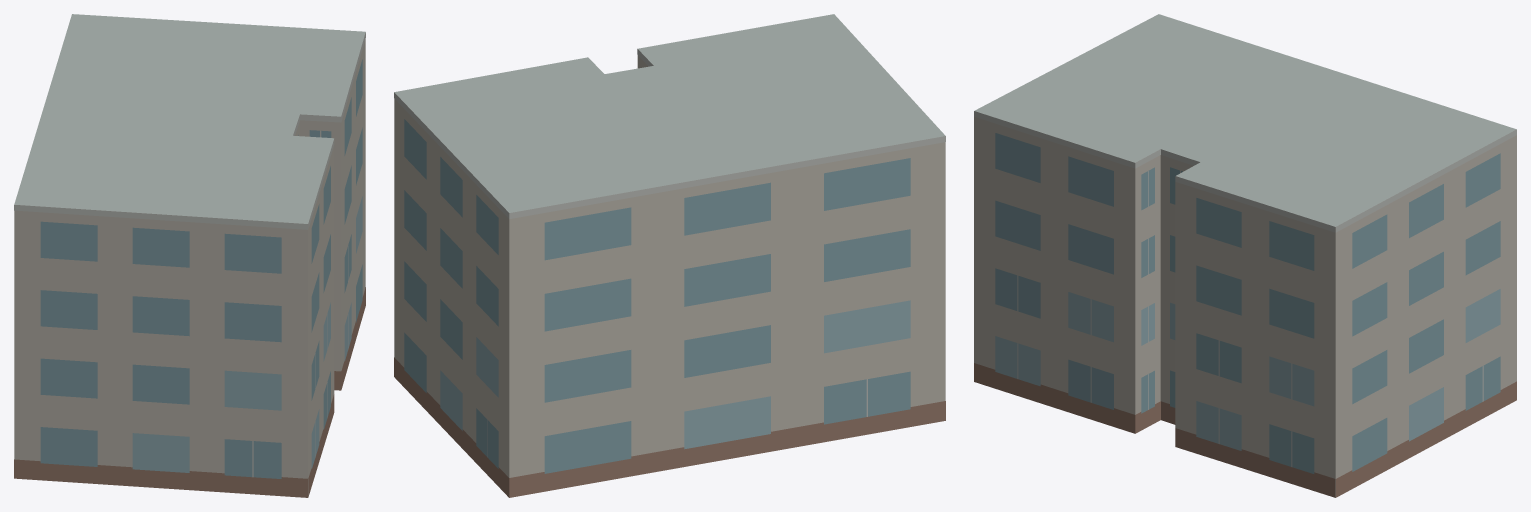
The model's file is survey-upis-32919735.glb.
3 renders of one model, left to right at view 1: azimuth 30°, elevation 25°; view 2: azimuth 150°, elevation 25°; view 3: azimuth 270°, elevation 25°, orthographic. The views are drawn at different scales.
Visible parts, largest first — view 1: survey-upis-32919735.tmp; view 2: survey-upis-32919735.tmp; view 3: survey-upis-32919735.tmp.
Part boxes in pixels (box(x1,y1,x2,y2)): survey-upis-32919735.tmp: box(14, 14, 365, 497); survey-upis-32919735.tmp: box(394, 14, 945, 497); survey-upis-32919735.tmp: box(974, 14, 1516, 497).
Size of the model in its own units: 19.31 by 11.45 by 20.8.
